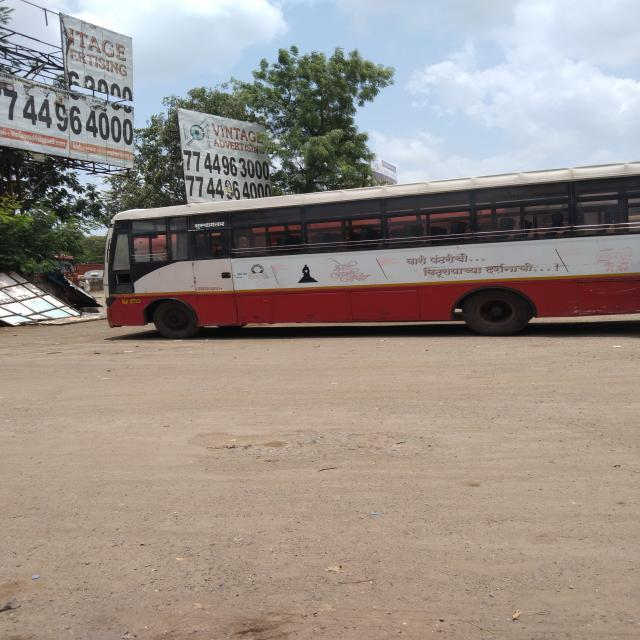Bus: (65, 177, 640, 388)
